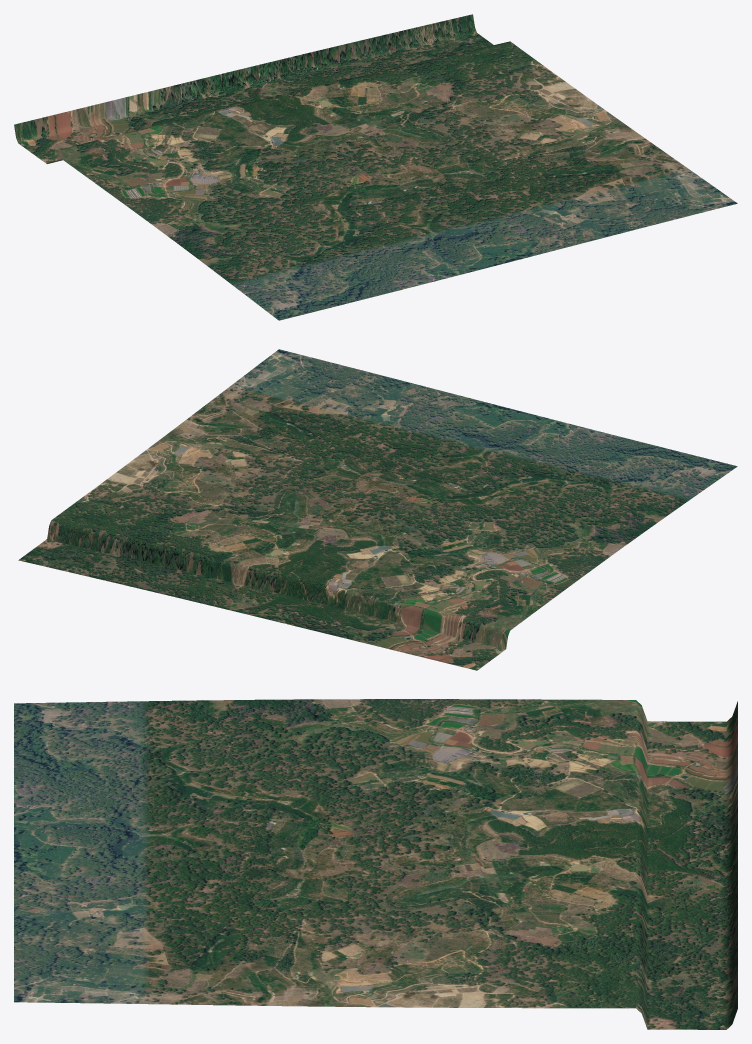
File: terrain_real_T_E03_S02.glb
3 renders of one model, top to bottom at view 1: azimuth 30°, elevation 25°; view 2: azimuth 150°, elevation 25°; view 3: azimuth 270°, elevation 25°, orthographic. The views are drawn at different scales.
Parts seen in each view (by area): view 1: Terrain_Real_DEM_T_E03_S02; view 2: Terrain_Real_DEM_T_E03_S02; view 3: Terrain_Real_DEM_T_E03_S02.
Boxes of the visible parts, bbox=[...] form: Terrain_Real_DEM_T_E03_S02: bbox=[14, 14, 737, 320]; Terrain_Real_DEM_T_E03_S02: bbox=[18, 349, 737, 670]; Terrain_Real_DEM_T_E03_S02: bbox=[14, 699, 737, 1029].
Bounding box in the file's own units: 2000 × 92.79 × 2000.
1 material, 1 textured.
